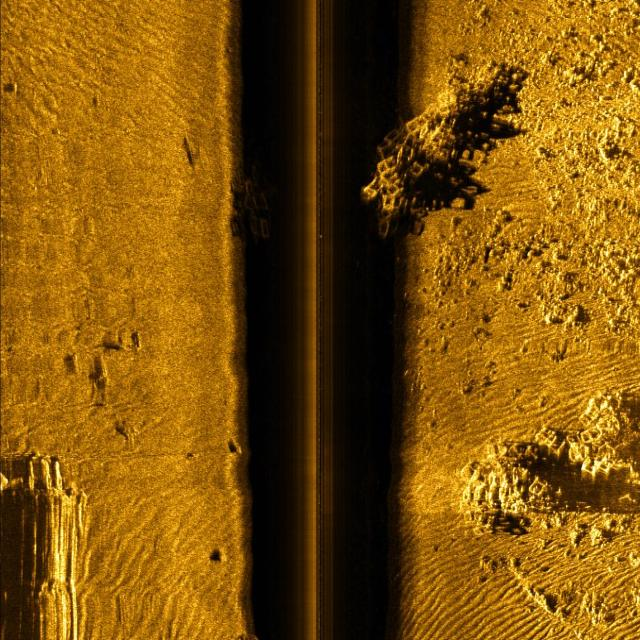artificial reef: (362, 68, 524, 245), (459, 405, 621, 530), (230, 139, 284, 250)
